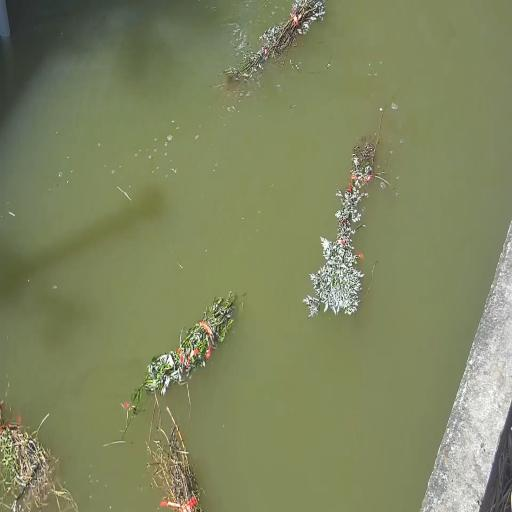twig: (301, 104, 390, 320), (130, 289, 240, 403), (219, 0, 326, 88), (0, 399, 79, 512), (148, 368, 204, 512)
